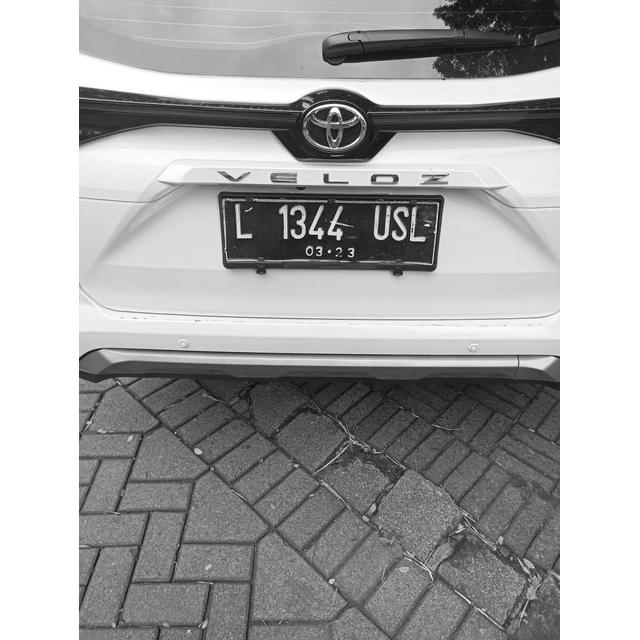license: (230, 200, 436, 259)
